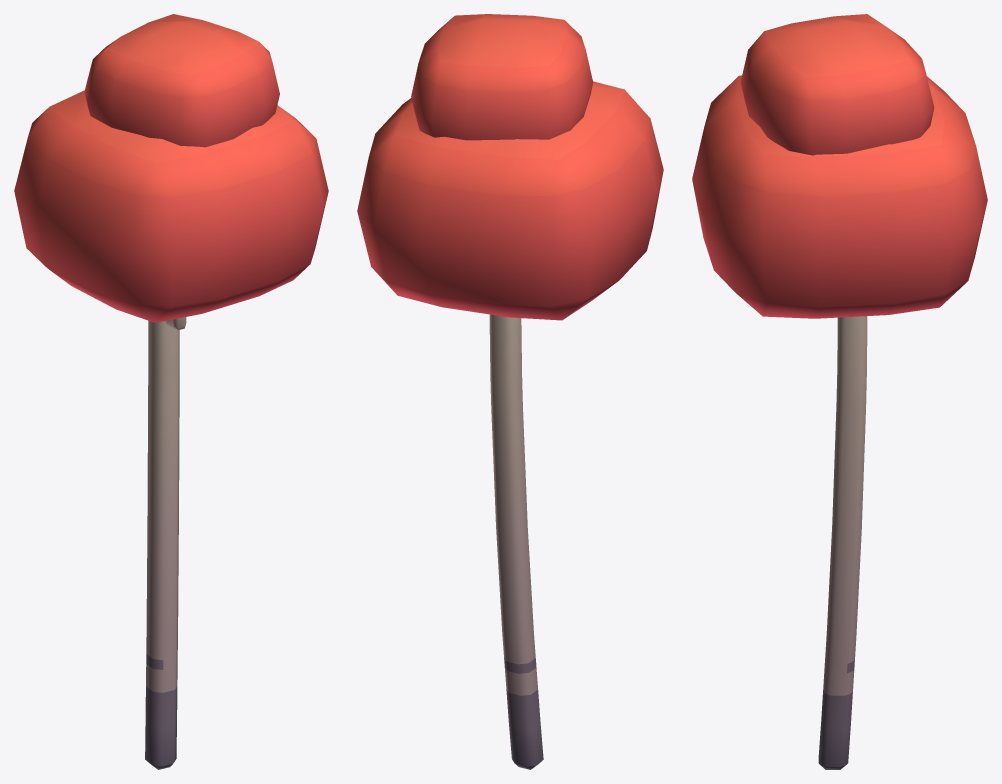
Rendered from birch_tree_SC_09.fbx.
3 renders of one model, left to right at view 1: azimuth 30°, elevation 25°; view 2: azimuth 150°, elevation 25°; view 3: azimuth 270°, elevation 25°, orthographic. The views are drawn at different scales.
Parts seen in each view (by area): view 1: birch_tree_SC_09; view 2: birch_tree_SC_09; view 3: birch_tree_SC_09.
Part boxes in pixels (box(x1,y1,x2,y2)): birch_tree_SC_09: box(14, 14, 328, 769); birch_tree_SC_09: box(357, 14, 663, 769); birch_tree_SC_09: box(692, 14, 987, 769).
Size of the model in its own units: 177 by 487 by 175.
Materials: 1 (1 with a texture image).
